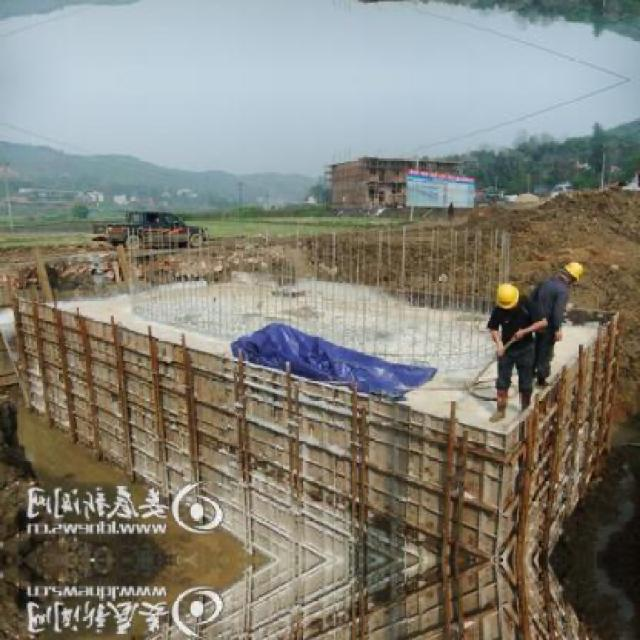con casco: (560, 247, 582, 333), (497, 278, 524, 340)
